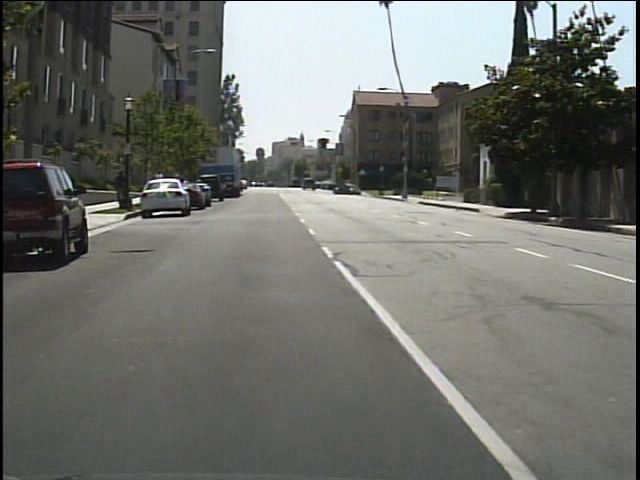person: (110, 167, 122, 204)
